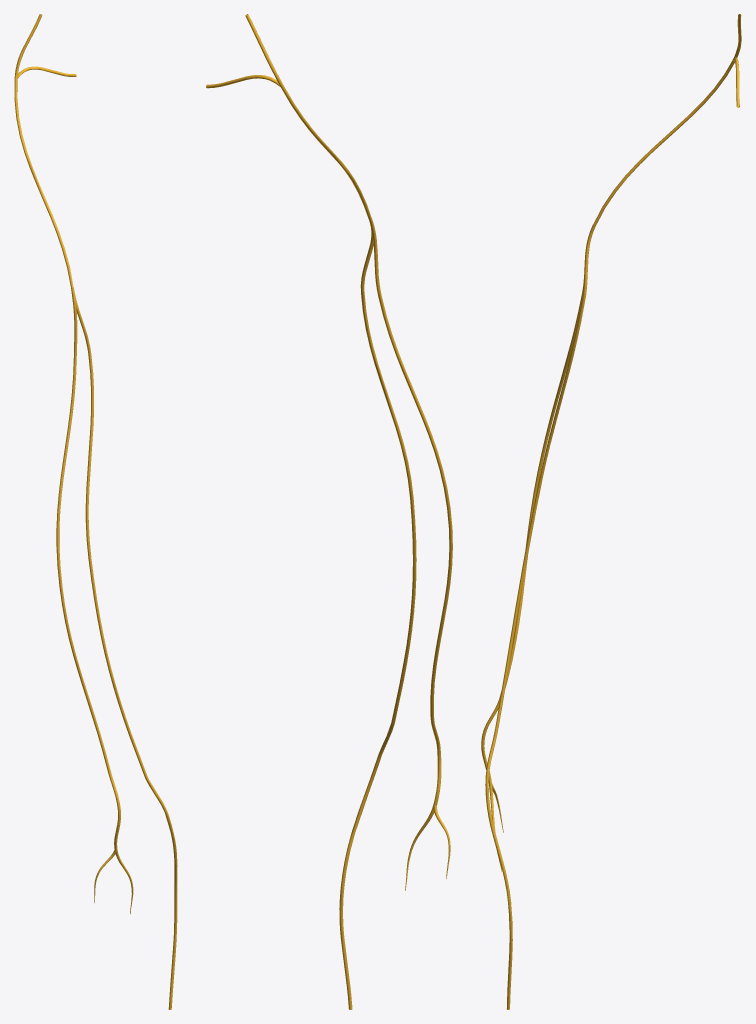
The model's file is nervoso-genitofemoral-nerve-r.glb.
3 views of the same model, side by side, from view 1: azimuth 30°, elevation 25°; view 2: azimuth 150°, elevation 25°; view 3: azimuth 270°, elevation 25° (orthographic). The views are drawn at different scales.
Visible parts, largest first — view 1: Genital branch of genitofemoral nerve.r, Femoral branch of genitofemoral nerve.r, Genitofemoral nerve.r; view 2: Genital branch of genitofemoral nerve.r, Femoral branch of genitofemoral nerve.r, Genitofemoral nerve.r; view 3: Genital branch of genitofemoral nerve.r, Femoral branch of genitofemoral nerve.r, Genitofemoral nerve.r.
Part boxes in pixels (box(x1,y1,x2,y2)): Genital branch of genitofemoral nerve.r: box(72, 288, 177, 1009); Femoral branch of genitofemoral nerve.r: box(56, 288, 133, 913); Genitofemoral nerve.r: box(14, 14, 76, 288); Genital branch of genitofemoral nerve.r: box(339, 225, 416, 1009); Femoral branch of genitofemoral nerve.r: box(369, 222, 452, 890); Genitofemoral nerve.r: box(206, 14, 372, 222); Genital branch of genitofemoral nerve.r: box(485, 225, 594, 1009); Femoral branch of genitofemoral nerve.r: box(481, 226, 595, 871); Genitofemoral nerve.r: box(593, 14, 741, 226).
Size of the model in its own units: 0.0424 by 0.3343 by 0.0802.
